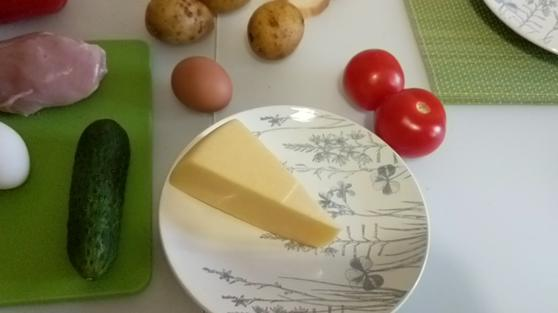cheese: (166, 120, 342, 252)
chicken_fillet: (1, 32, 111, 119)
cucumber: (63, 120, 130, 282)
egg: (172, 52, 238, 111), (1, 125, 38, 197)
potato: (243, 1, 311, 62), (139, 1, 223, 46)
tomato: (375, 85, 451, 158), (339, 40, 408, 111)
